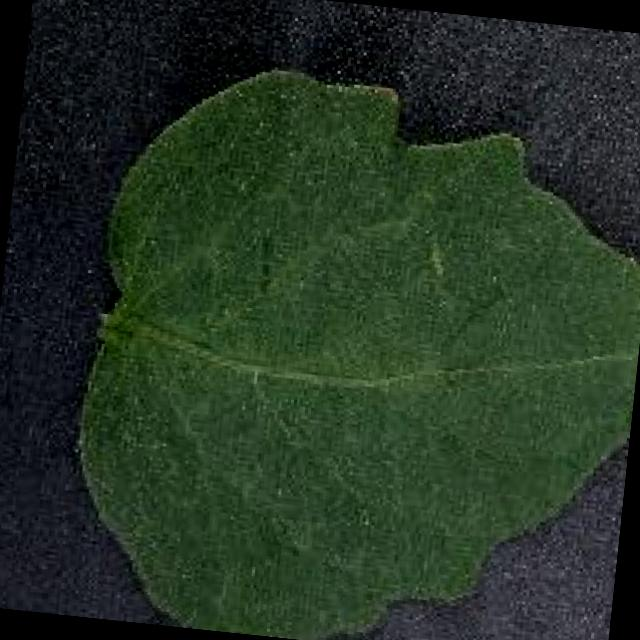healthy: (78, 67, 640, 640)
